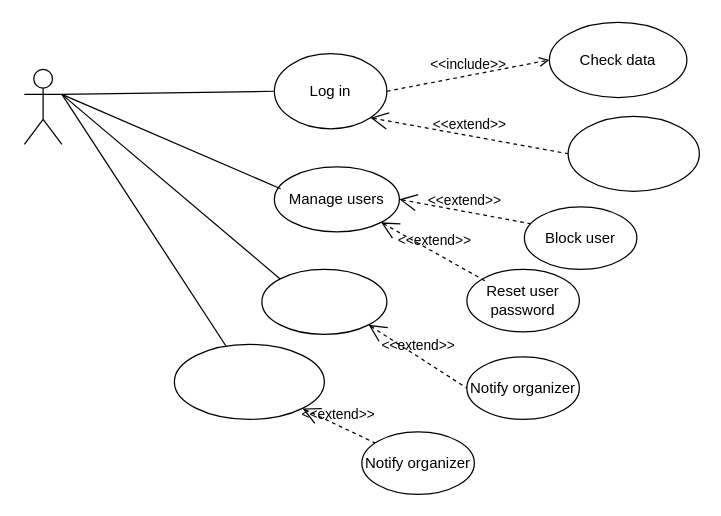
Image size: 721x516. Some labels were removed from this diagram. Each missing label, with the box of its shape:
Admin: (23, 68, 62, 144)
Approve/Reject events: (261, 268, 387, 334)
Approve/Reject organizer applications: (173, 343, 324, 419)
Display error messages: (567, 115, 699, 191)
